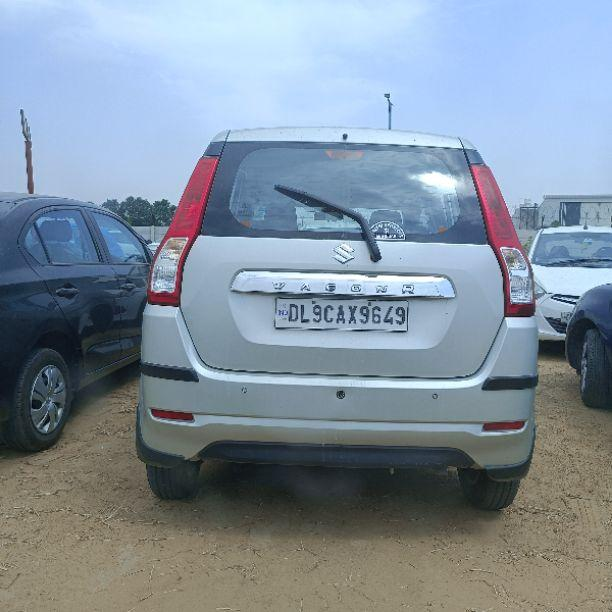license_plate: (272, 295, 409, 332)
